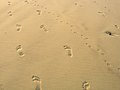human_foot_print: (59, 46, 76, 60), (16, 44, 25, 60), (31, 75, 41, 89), (32, 75, 41, 89)
